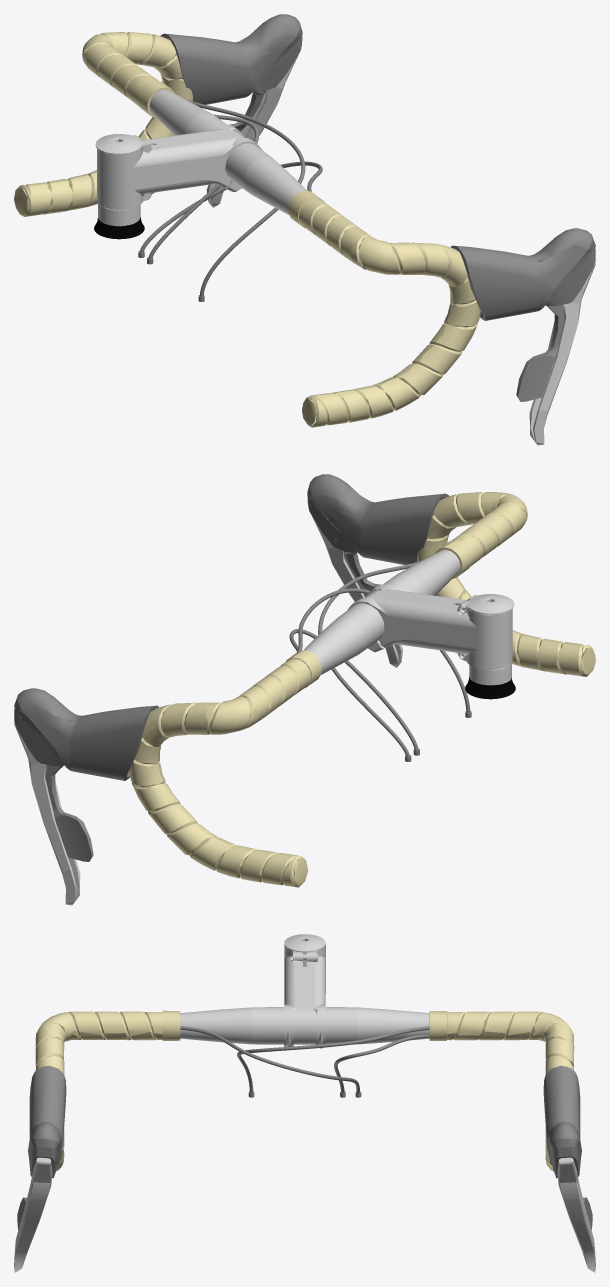
File: Handle2_Drop_Shifter.glb
3 views of the same model, one above another, from view 1: azimuth 30°, elevation 25°; view 2: azimuth 150°, elevation 25°; view 3: azimuth 270°, elevation 25° (orthographic). The views are drawn at different scales.
Visible parts, largest first — view 1: no_transformations (×7); view 2: no_transformations (×7); view 3: no_transformations (×6).
Part boxes in pixels (box(x1,y1,x2,y2)): no_transformations (×7): box(14, 14, 595, 445); no_transformations (×7): box(14, 474, 595, 905); no_transformations (×6): box(14, 934, 595, 1272).
Bounding box in the file's own units: 300 × 206 × 491.
